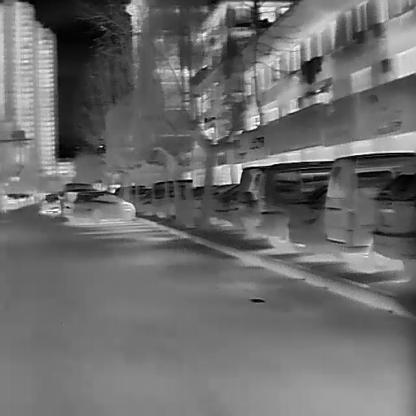car: (322, 151, 416, 248), (254, 158, 340, 244), (370, 170, 416, 262), (237, 167, 289, 221), (133, 178, 196, 218), (70, 190, 135, 224), (42, 193, 60, 217)
